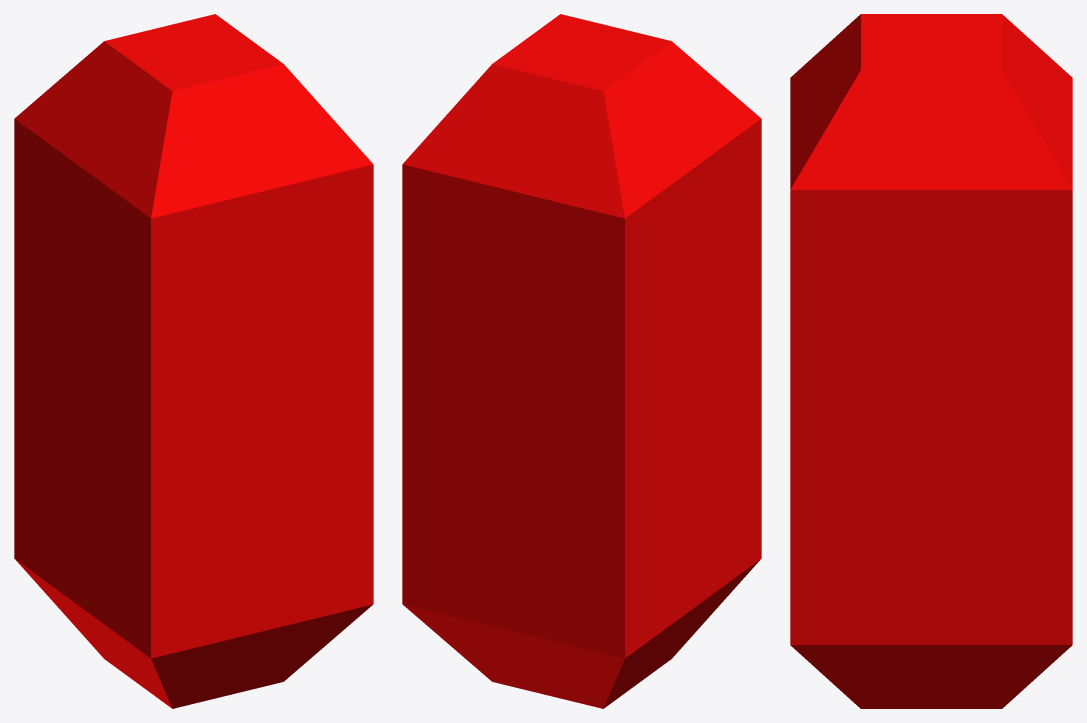
Rendered from BasicMutant-UpperArm.fbx.
The picture shows the model from 3 angles, left to right: view 1: azimuth 30°, elevation 25°; view 2: azimuth 150°, elevation 25°; view 3: azimuth 270°, elevation 25°; orthographic projection. The views are drawn at different scales.
Parts seen in each view (by area): view 1: BasicMutant-UPPERARM; view 2: BasicMutant-UPPERARM; view 3: BasicMutant-UPPERARM.
Part boxes in pixels (left/top/right/bottom): BasicMutant-UPPERARM: left=14, top=14, right=373, bottom=708; BasicMutant-UPPERARM: left=402, top=14, right=761, bottom=708; BasicMutant-UPPERARM: left=790, top=14, right=1072, bottom=708.
Bounding box in the file's own units: 0.1568 × 0.4161 × 0.1668.
